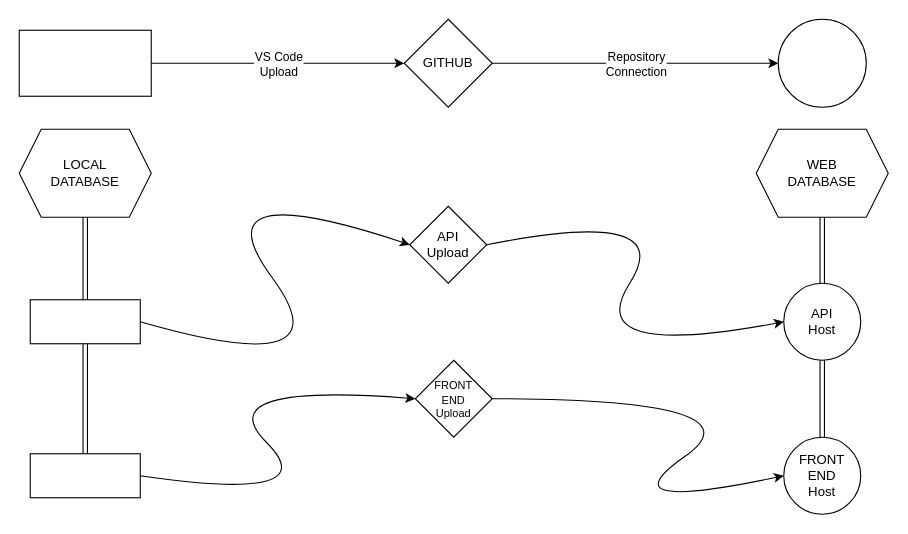
This 908x534 diagram has some shape labels left out. Here are the shapes that lost their labels. From the top down, the centre of each, then its label:
At pixel 84 62: "LOCAL DEV".
At pixel 821 62: "RENDER".
At pixel 84 321: "API Folder".
At pixel 84 475: "FRONTEND Folder".
